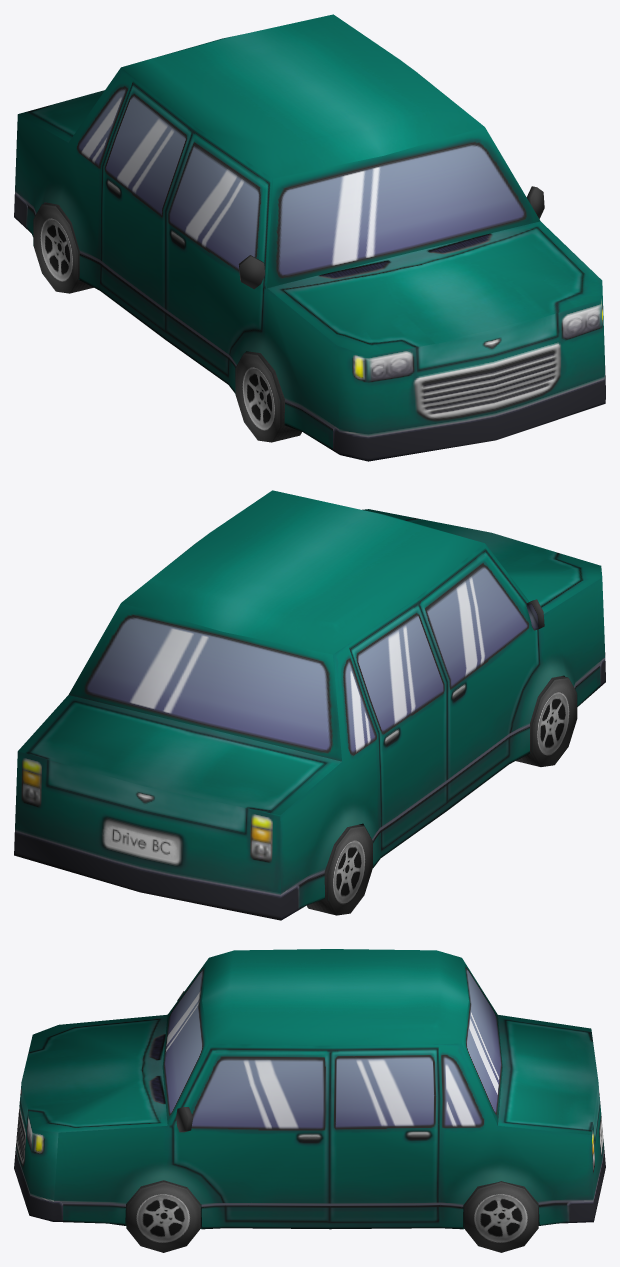
Rendered from Car.fbx.
3 views of the same model, one above another, from view 1: azimuth 30°, elevation 25°; view 2: azimuth 150°, elevation 25°; view 3: azimuth 270°, elevation 25° (orthographic). The views are drawn at different scales.
Parts seen in each view (by area): view 1: Car; view 2: Car; view 3: Car.
Part boxes in pixels (<box>): Car: <box>14,14,605,461</box>; Car: <box>14,490,605,920</box>; Car: <box>14,949,605,1252</box>.
Size of the model in its own units: 17.13 by 13.33 by 34.77.
1 material, 1 textured.
